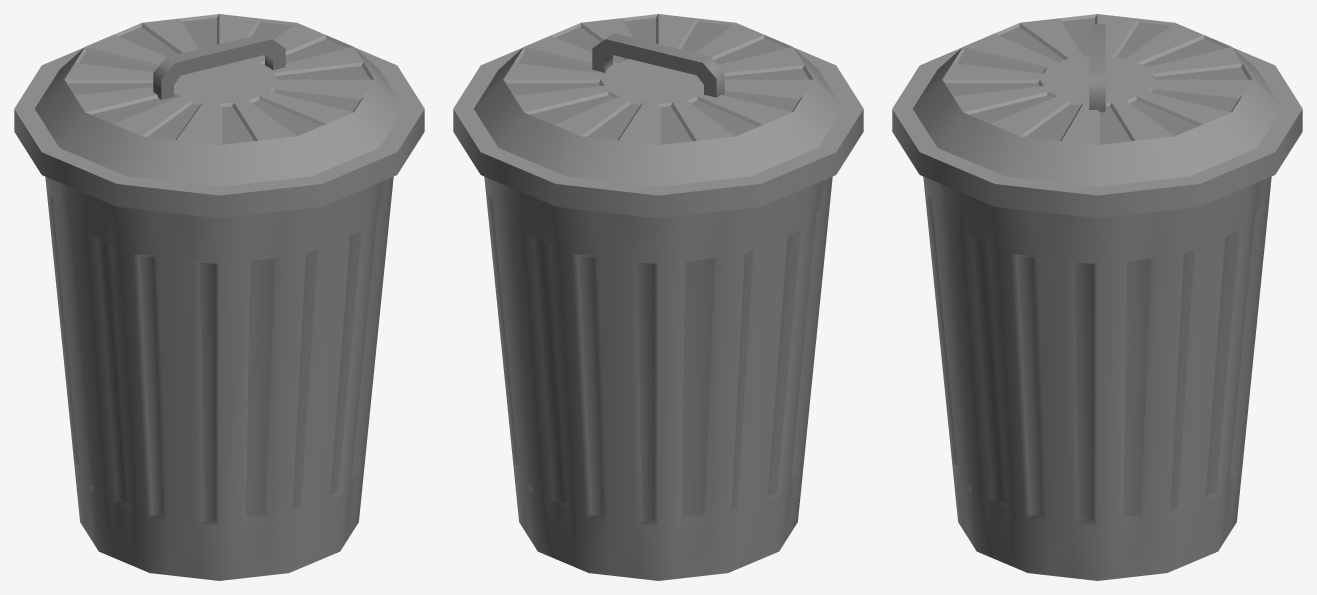
Rendered from rubbishbin.fbx.
3 views of the same model, side by side, from view 1: azimuth 30°, elevation 25°; view 2: azimuth 150°, elevation 25°; view 3: azimuth 270°, elevation 25° (orthographic).
Parts seen in each view (by area): view 1: polySurface30, head, pCube3; view 2: polySurface30, head, pCube3; view 3: polySurface30, head, pCube3.
Boxes of the visible parts, box(x1,y1,x2,y2) form: polySurface30: box(45, 176, 393, 580); head: box(14, 14, 424, 218); pCube3: box(153, 33, 285, 99); polySurface30: box(484, 176, 832, 580); head: box(453, 14, 863, 218); pCube3: box(592, 33, 724, 97); polySurface30: box(923, 176, 1271, 580); head: box(892, 14, 1302, 218); pCube3: box(1089, 24, 1105, 112).
Size of the model in its own units: 7.91 by 10.08 by 7.91.
1 material, 1 textured.
